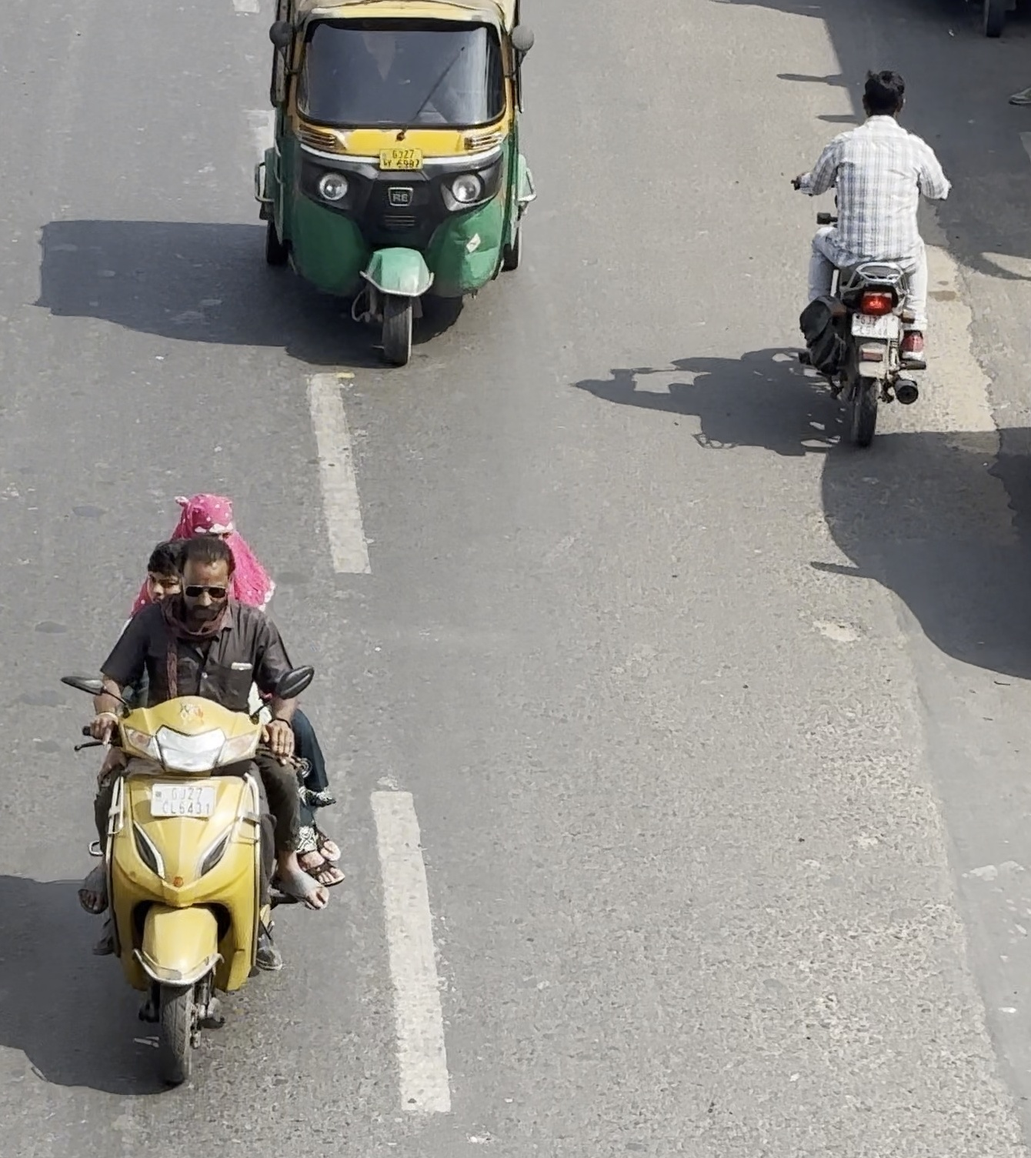BikeWithRider: (42, 482, 369, 1090), (758, 58, 979, 459)
NoHelmet: (128, 538, 205, 616), (180, 490, 249, 568), (178, 532, 231, 630), (859, 58, 914, 121)
